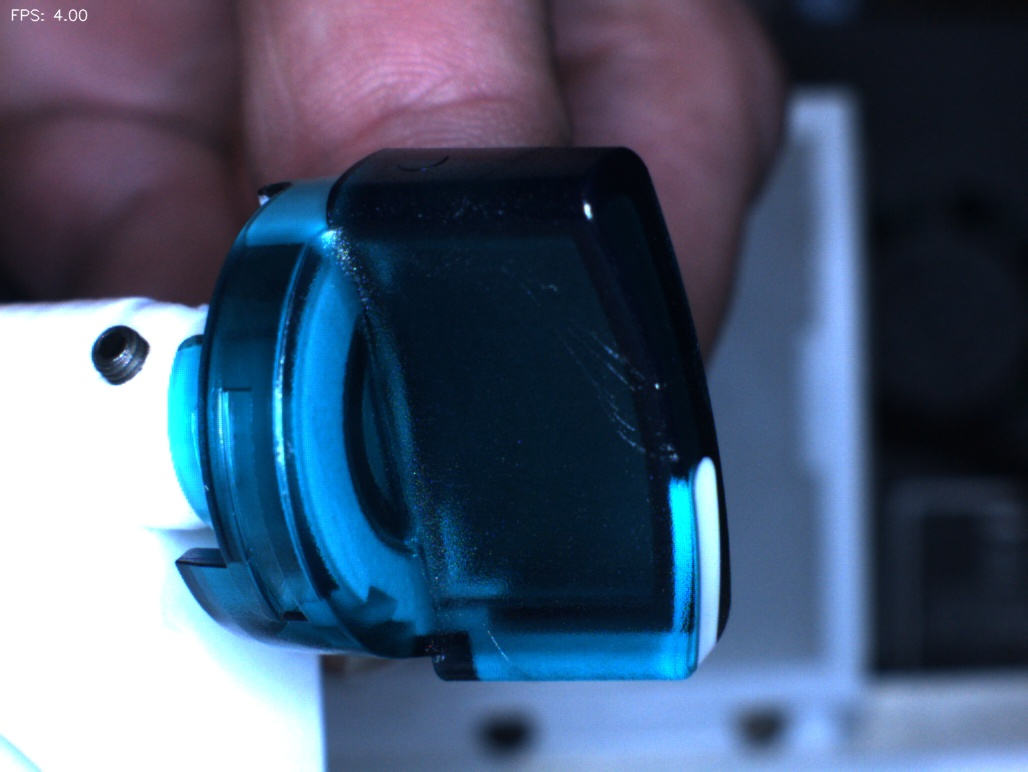Givrage: (518, 265, 662, 471)
